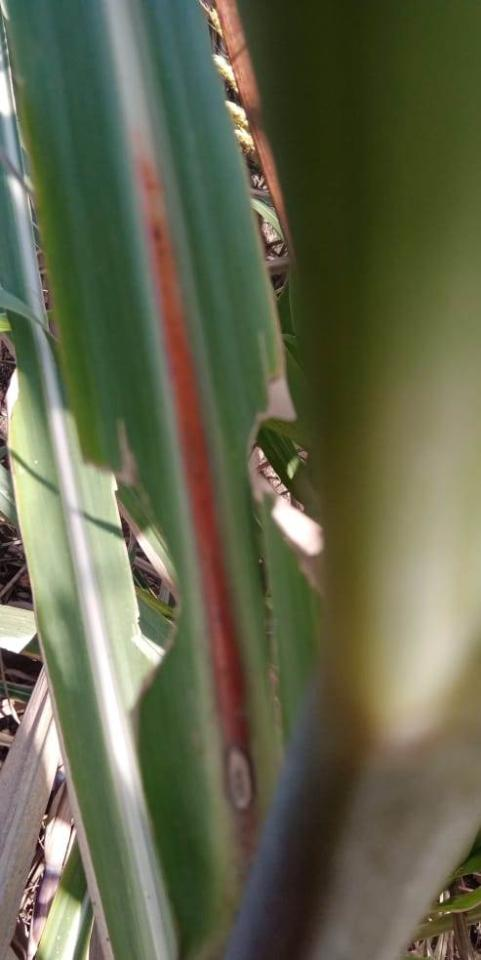RedRot: (128, 128, 263, 878)
